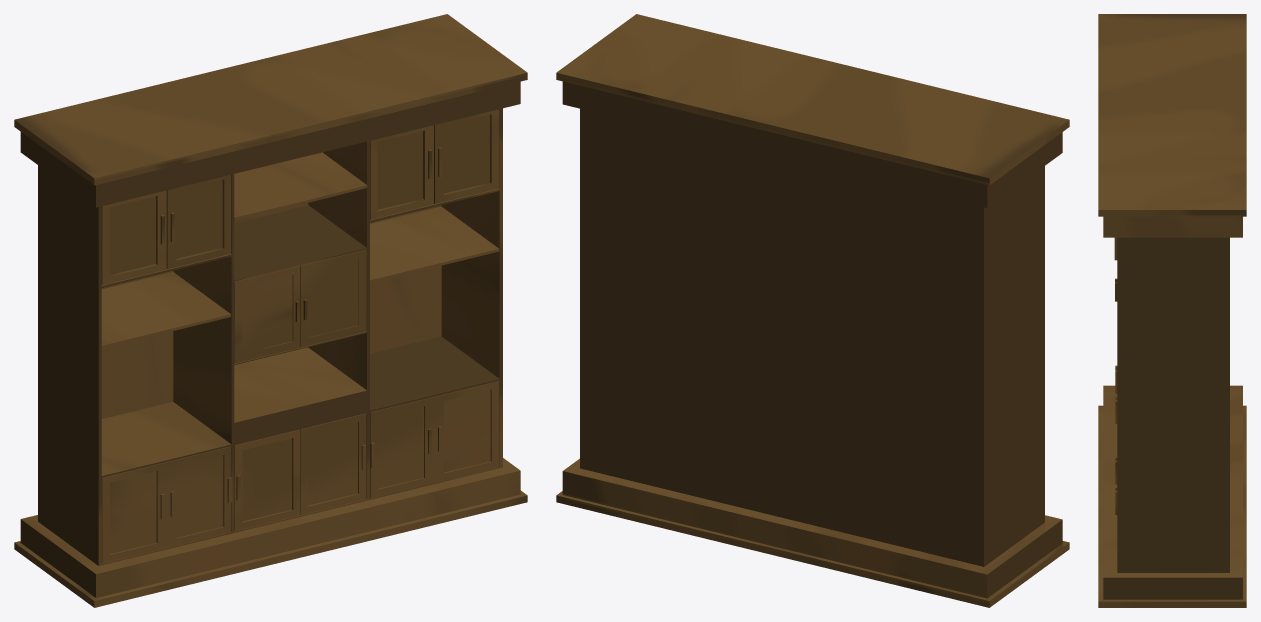
Rendered from estante da sala.fbx.
The picture shows the model from 3 angles, left to right: view 1: azimuth 30°, elevation 25°; view 2: azimuth 150°, elevation 25°; view 3: azimuth 270°, elevation 25°; orthographic projection. The views are drawn at different scales.
Parts seen in each view (by area): view 1: Cube; view 2: Cube; view 3: Cube.
Part boxes in pixels (bbox=[...]): Cube: bbox=[14, 14, 527, 607]; Cube: bbox=[556, 14, 1069, 607]; Cube: bbox=[1098, 14, 1246, 607].
Size of the model in its own units: 824 by 781 by 264.
Materials: 1 (1 with a texture image).
